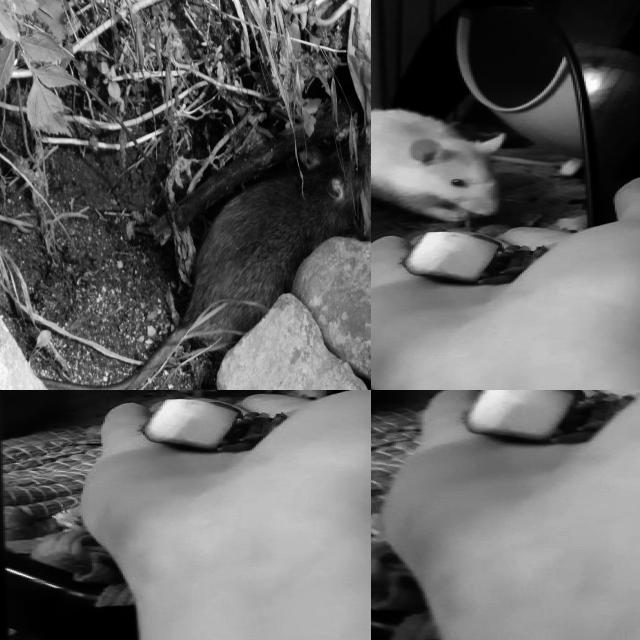rat: (184, 140, 370, 363), (371, 108, 515, 224)
